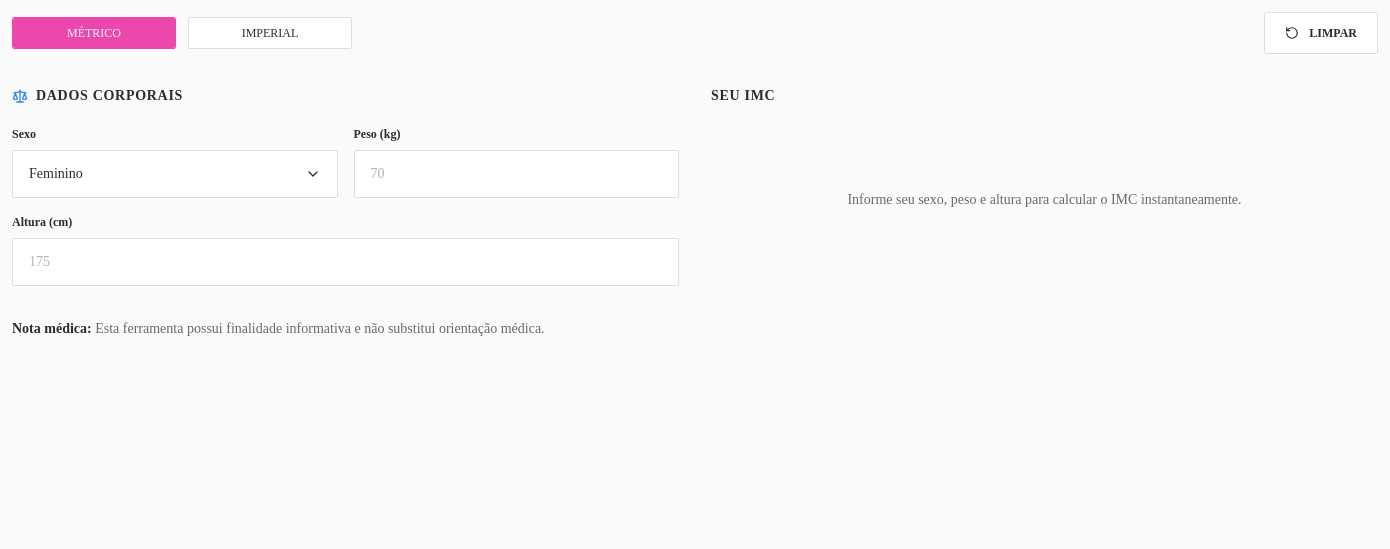
Test: Health Tools Integration Tests › AppBmiCalculator › displays sex-specific biological context note and updates when sex changes
Type "60" into the number field labelled "Peso (kg)". click: {"x": 516, "y": 174}
box: [354, 150, 679, 198]
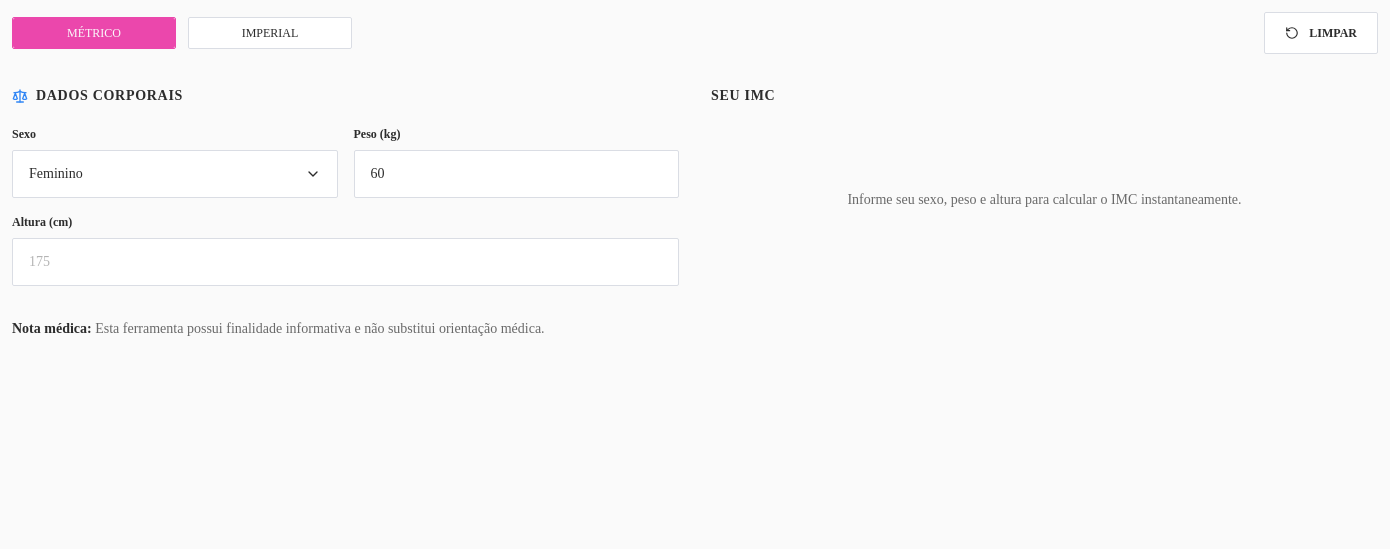
Type "165" into the number field labelled "Altura (cm)". click: {"x": 346, "y": 262}
box: [12, 238, 679, 286]
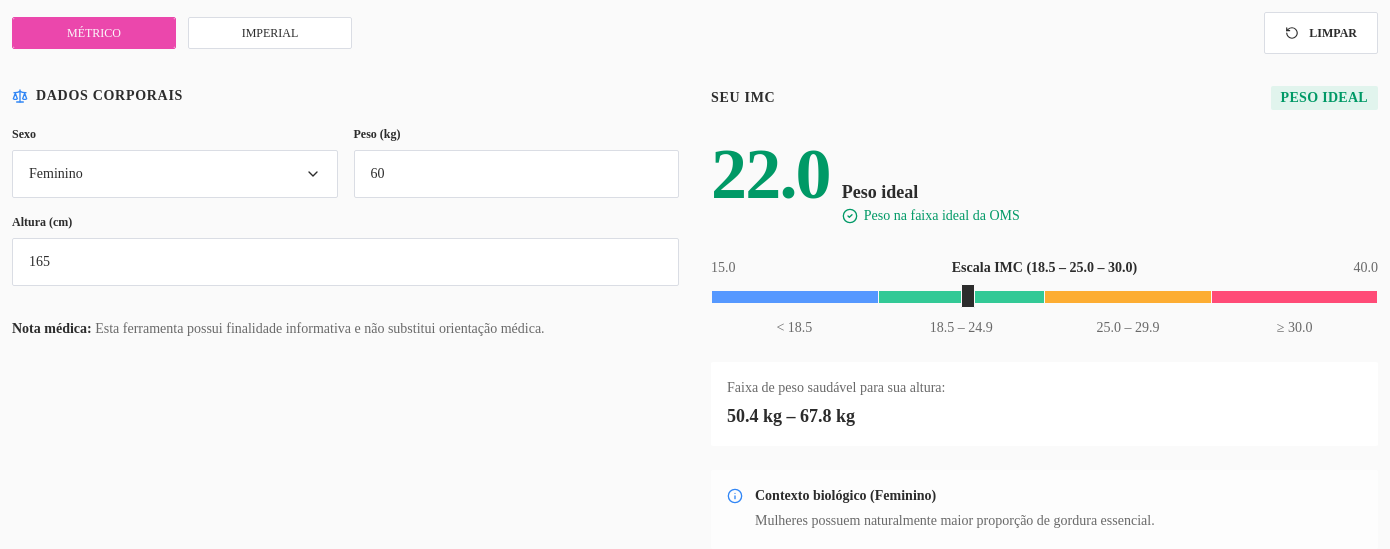
expect the text "Mulheres possuem naturalmente maior proporção de gordura essencial." is shown: met, box [755, 510, 1155, 533]
// Change sex to male via AppSelect
Click the dropdown named "Sexo". click: {"x": 56, "y": 174}
box: [12, 150, 338, 198]
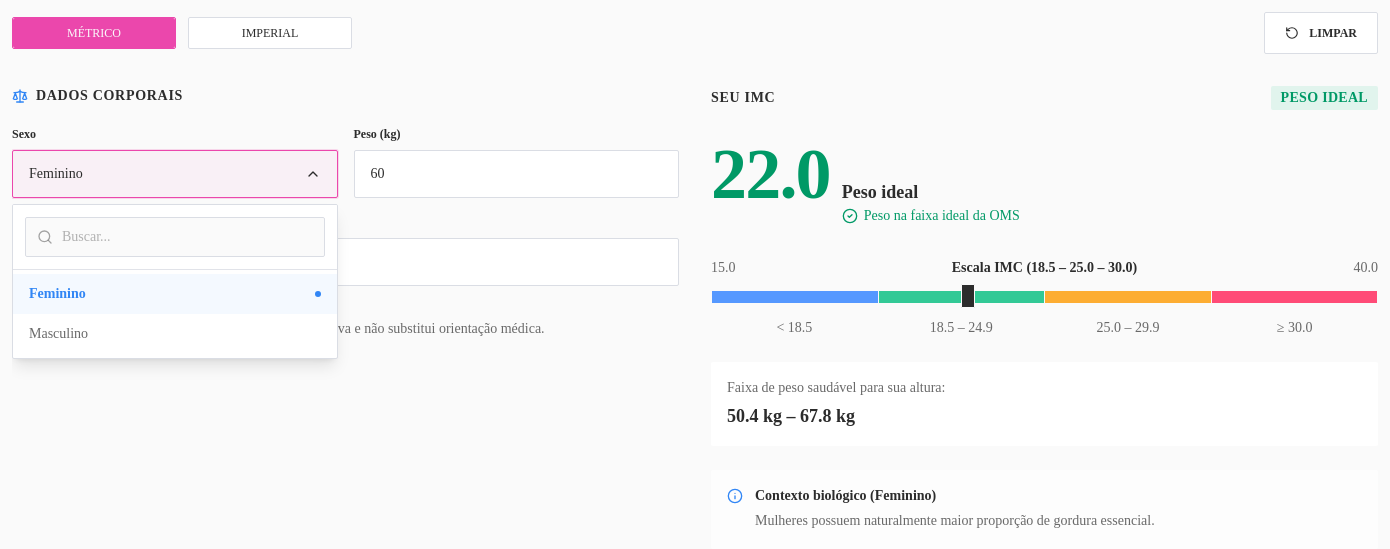
Click the option "Masculino". click: {"x": 59, "y": 334}
box: [13, 314, 336, 354]
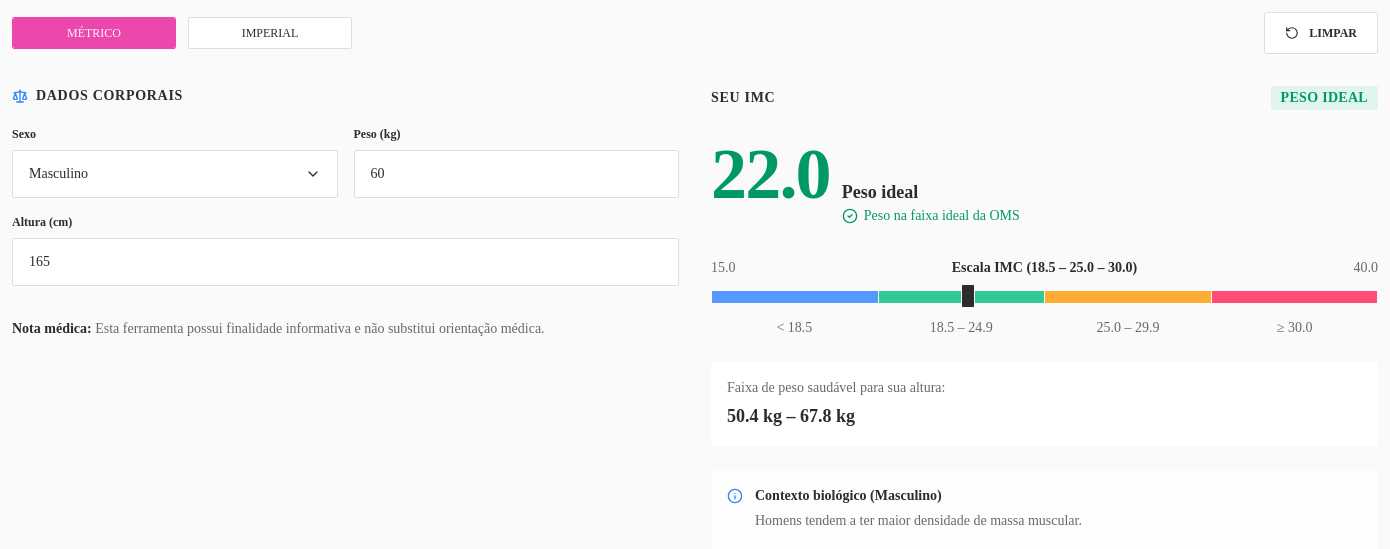
expect the text "Homens tendem a ter maior densidade de massa muscular." is shown: met, box [755, 510, 1082, 533]
